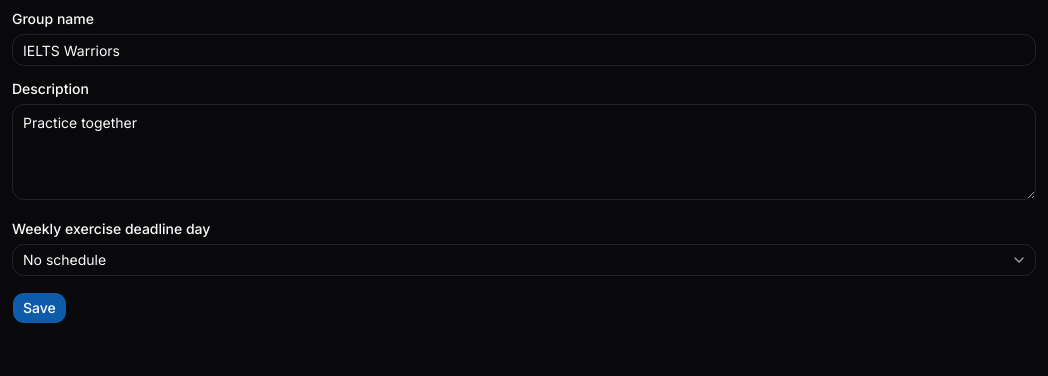
Test: GroupSettingsForm › shows network error when fetch throws
The image size is (1048, 376).
Click the button "Save" at (39, 308), box [12,292,67,324]
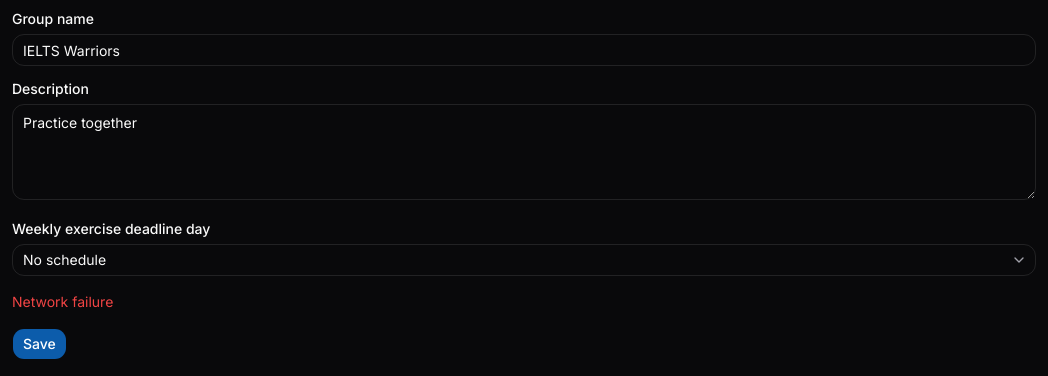
Expected: the text "Network failure" is shown, [12,293,113,310]
